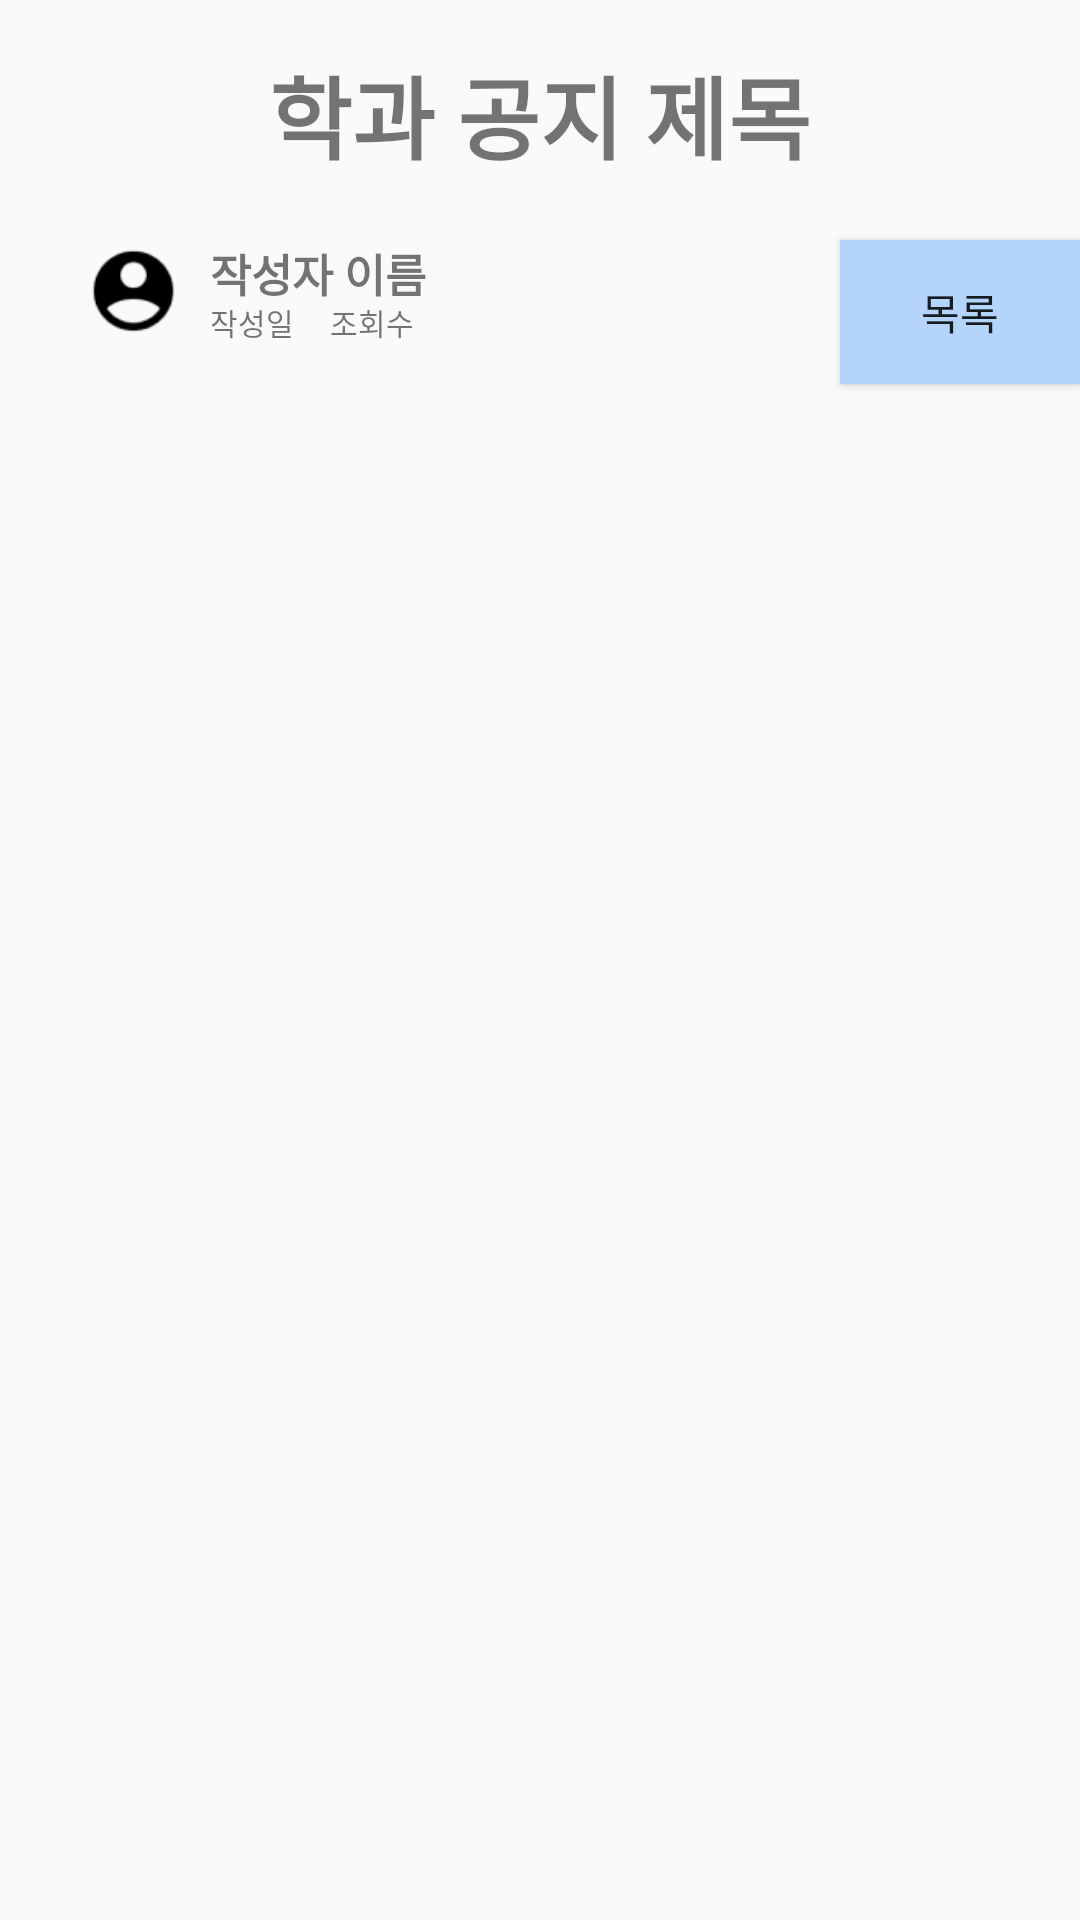

Named icons in this screenshot (1080 x 1920) and their bounding boxes, (x1, y1, x2, y2):
user: (93, 250, 174, 332)
